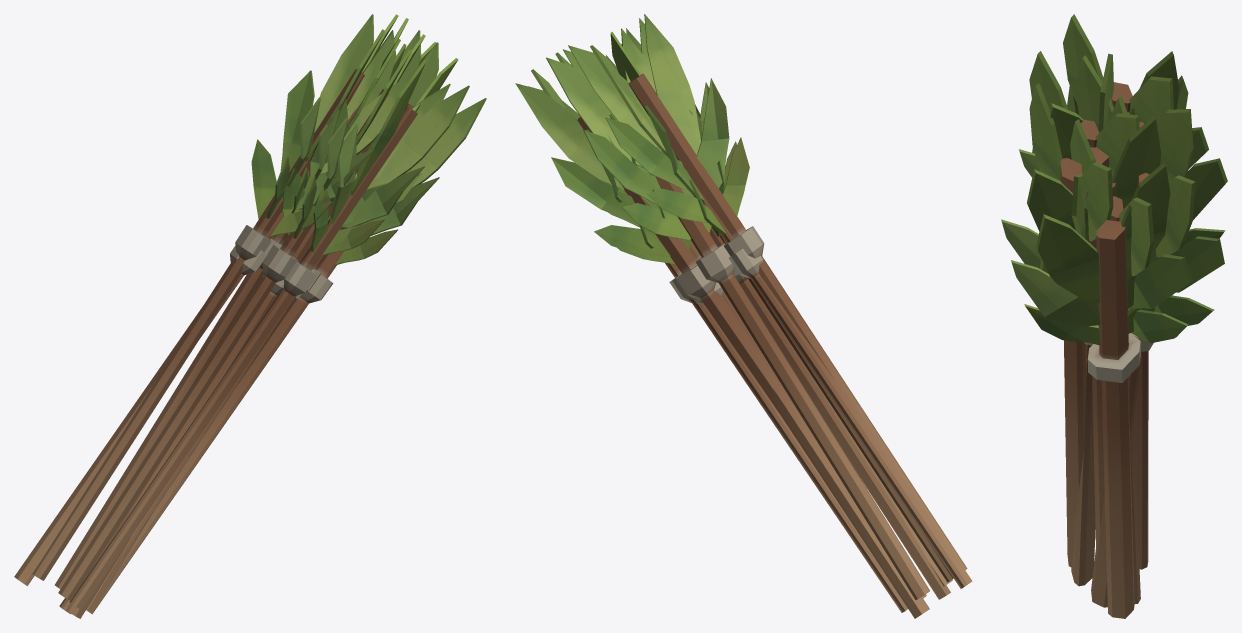
File: Arrows.fbx
The picture shows the model from 3 angles, left to right: view 1: azimuth 30°, elevation 25°; view 2: azimuth 150°, elevation 25°; view 3: azimuth 270°, elevation 25°; orthographic projection. The views are drawn at different scales.
Visible parts, largest first — view 1: Arrow.011, Arrow.007, Arrow.001, Arrow.003, Arrow.006, Arrow.005, Arrow.008, Arrow.004, Arrow.009; view 2: Arrow.001, Arrow.004, Arrow.009, Arrow.007, Arrow.008, Arrow.010, Arrow.006, Arrow.003, Arrow.011; view 3: Arrow.006, Arrow.004, Arrow.011, Arrow.010, Arrow.005, Arrow.009, Arrow.008, Arrow.001, Arrow.003, Arrow.007.
Part boxes in pixels (bbox=[...]): Arrow.011: bbox=[69, 58, 458, 609]; Arrow.007: bbox=[14, 14, 414, 585]; Arrow.001: bbox=[32, 14, 398, 580]; Arrow.003: bbox=[58, 34, 425, 600]; Arrow.006: bbox=[86, 42, 486, 614]; Arrow.005: bbox=[119, 30, 469, 562]; Arrow.008: bbox=[66, 30, 450, 618]; Arrow.004: bbox=[55, 18, 408, 589]; Arrow.009: bbox=[86, 42, 436, 613]; Arrow.001: bbox=[568, 14, 967, 578]; Arrow.004: bbox=[546, 28, 929, 599]; Arrow.009: bbox=[515, 52, 926, 598]; Arrow.007: bbox=[590, 43, 972, 588]; Arrow.008: bbox=[610, 31, 950, 599]; Arrow.010: bbox=[528, 55, 929, 618]; Arrow.006: bbox=[531, 69, 907, 612]; Arrow.003: bbox=[563, 18, 953, 582]; Arrow.011: bbox=[626, 28, 952, 586]; Arrow.006: bbox=[1011, 162, 1172, 618]; Arrow.004: bbox=[1074, 55, 1227, 569]; Arrow.011: bbox=[1029, 83, 1134, 567]; Arrow.010: bbox=[1070, 119, 1192, 603]; Arrow.005: bbox=[1001, 115, 1161, 554]; Arrow.009: bbox=[1091, 96, 1224, 607]; Arrow.008: bbox=[1039, 53, 1113, 586]; Arrow.001: bbox=[1063, 14, 1208, 169]; Arrow.003: bbox=[1029, 51, 1167, 176]; Arrow.007: bbox=[1019, 51, 1188, 177].
Size of the model in its own units: 15.5 by 17.61 by 4.45.
